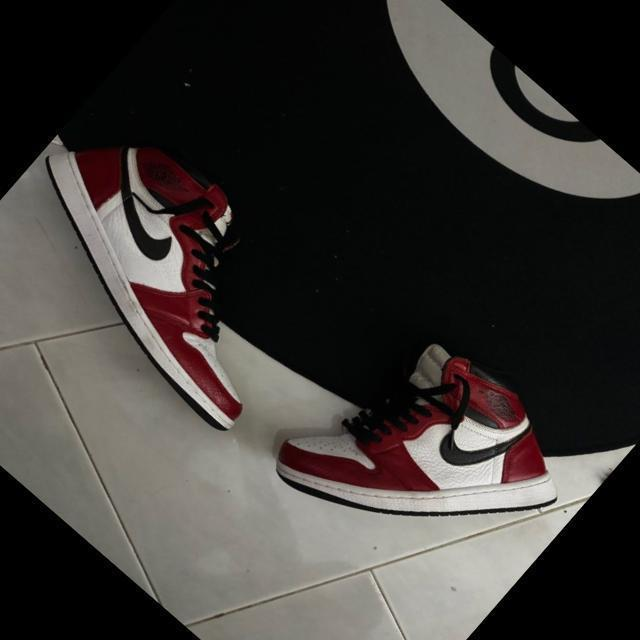nike original jordan 1: (0, 83, 357, 443), (256, 293, 592, 626)
